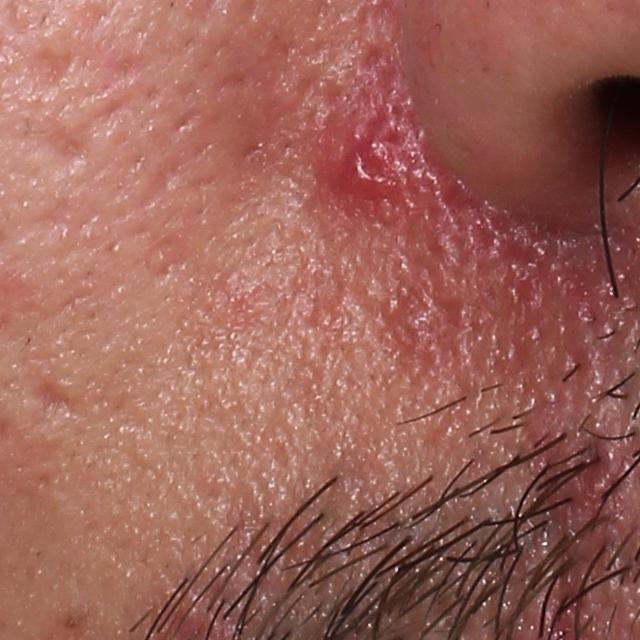atrophic_scar: (54, 34, 136, 103), (20, 373, 78, 425), (45, 124, 93, 177), (31, 46, 74, 93)
